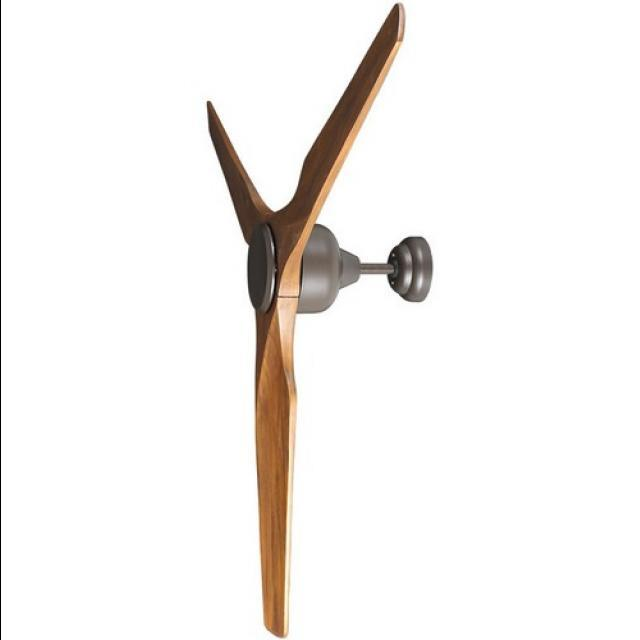fan: (209, 2, 438, 640)
